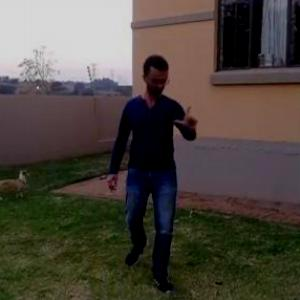land_hand: (167, 100, 199, 135)
